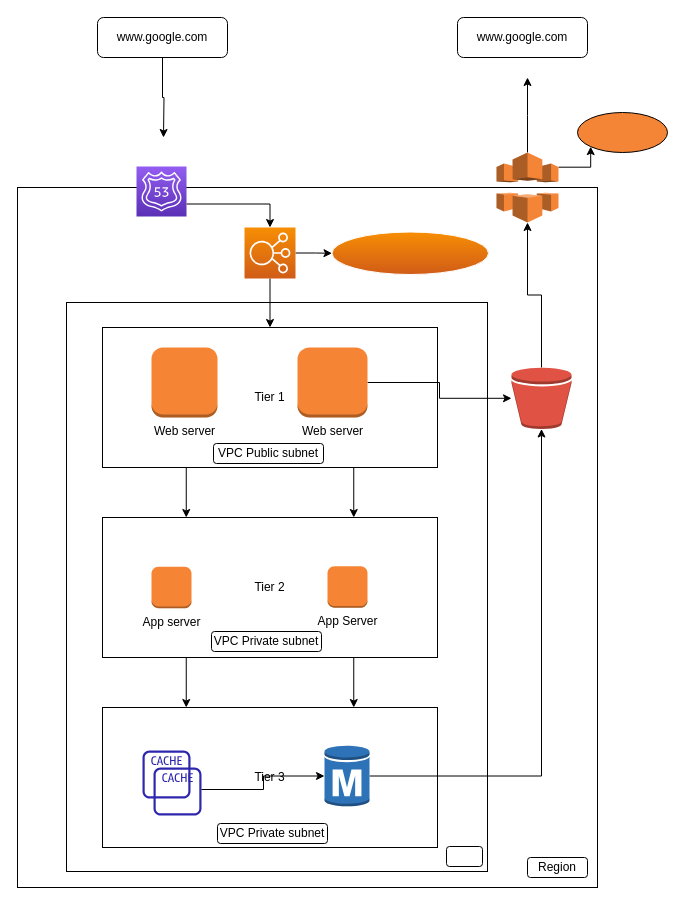
Some shapes in this 685 by 905 pixel diagram are drawn without their labels. The shapes that lost their labels are listed below. From the top down, each one's centre as x and y in pixels, then its label:
At (x=622, y=132): "AWS Cloud front".
At (x=161, y=191): "AWS Route 53".
At (x=409, y=252): "Elastic load balancer".
At (x=541, y=397): "s3".
At (x=177, y=791): "Elastic cache".
At (x=347, y=776): "DB".
At (x=464, y=856): "VPC".
